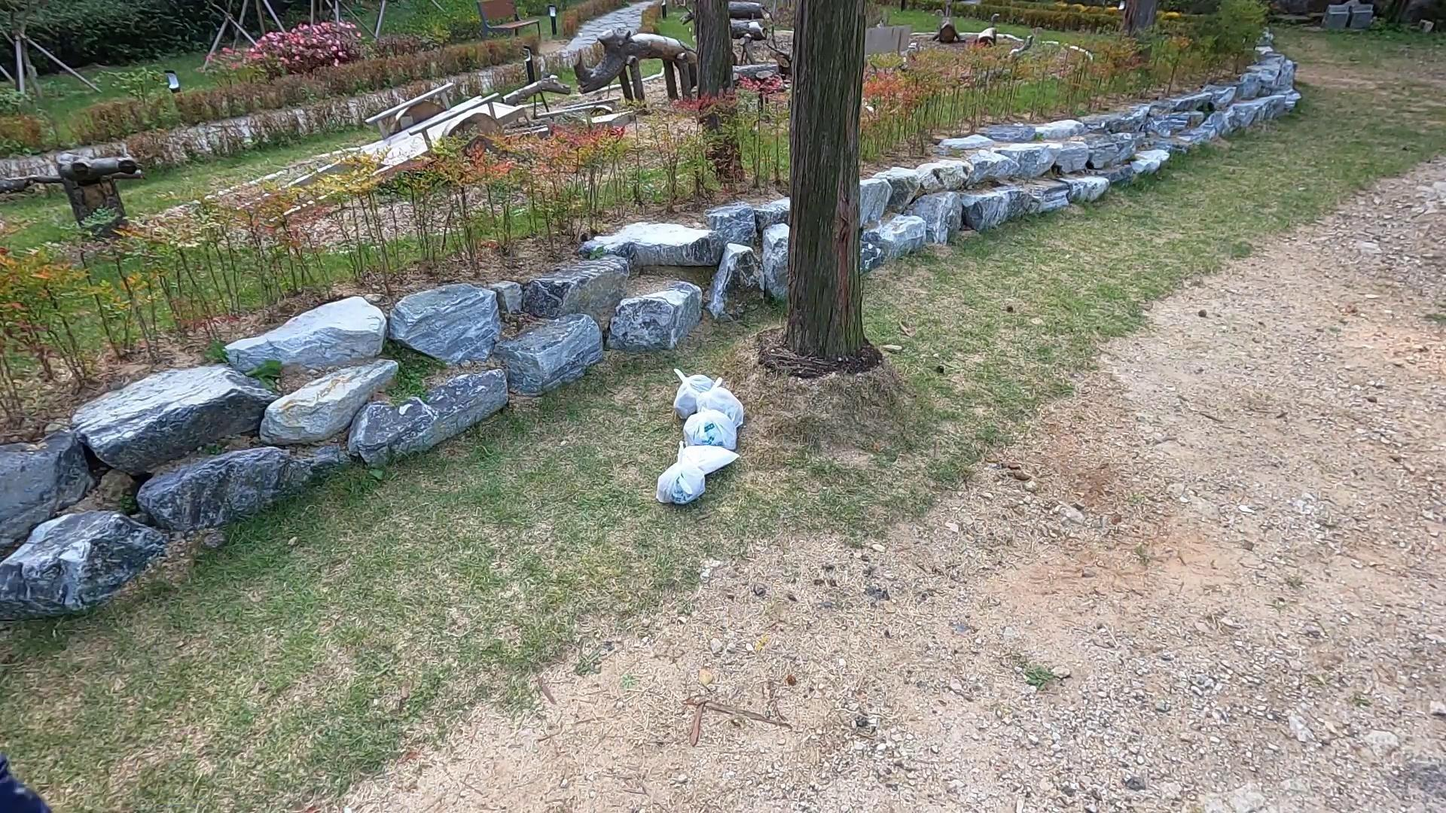trash: (670, 366, 722, 420), (675, 441, 743, 482), (681, 405, 739, 452), (654, 457, 707, 508), (693, 383, 746, 428)
